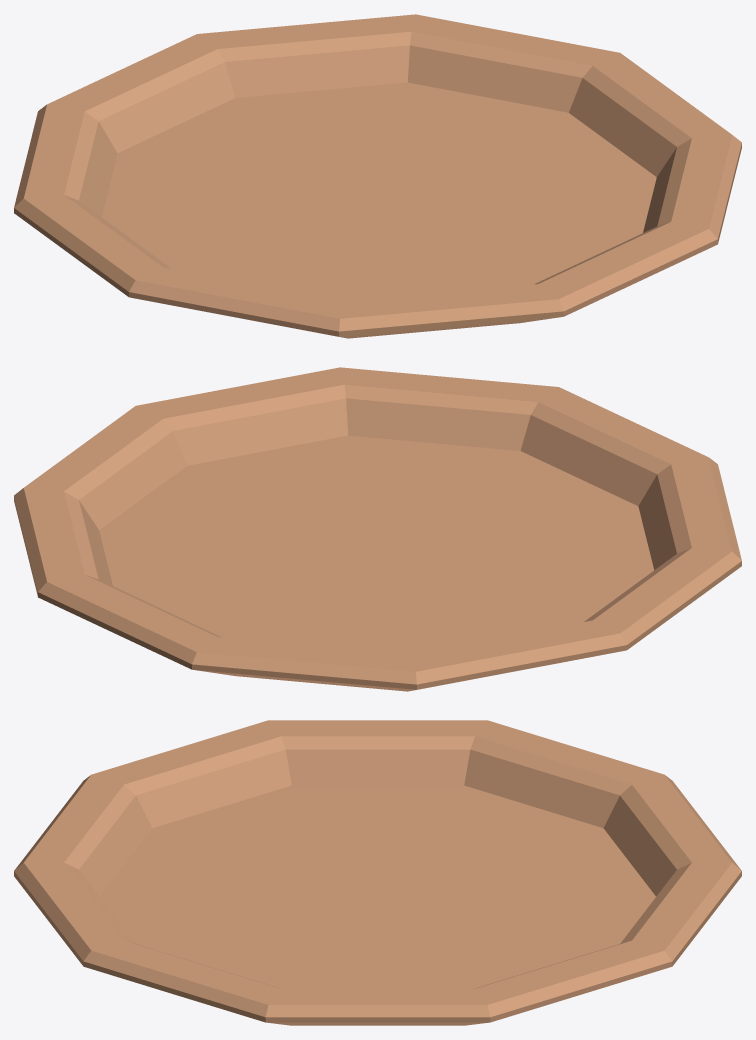
File: Plate1.glb
3 renders of one model, top to bottom at view 1: azimuth 30°, elevation 25°; view 2: azimuth 150°, elevation 25°; view 3: azimuth 270°, elevation 25°, orthographic. The views are drawn at different scales.
Visible parts, largest first — view 1: Plate1; view 2: Plate1; view 3: Plate1.
Part boxes in pixels (x1,y1,x2,y2): Plate1: (14, 14, 741, 338); Plate1: (14, 367, 741, 691); Plate1: (14, 720, 741, 1025).
Bounding box in the file's own units: 0.5159 × 0.042 × 0.5425.
